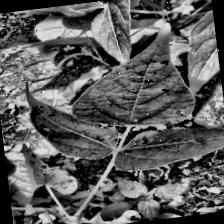ALS: (96, 46, 210, 125), (11, 92, 114, 166), (125, 122, 224, 170)
